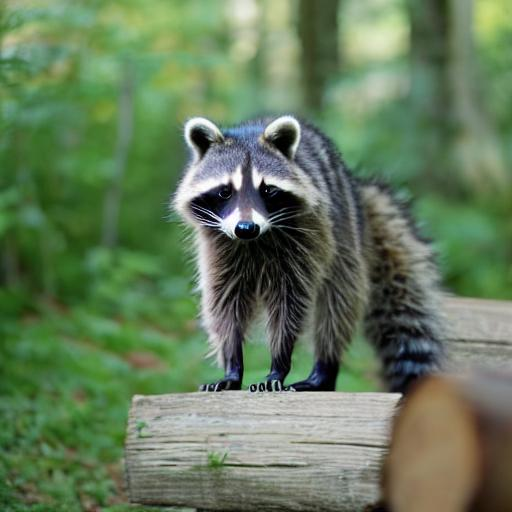raccoon: (157, 104, 458, 360)
